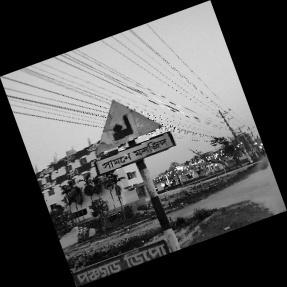Mosque in front: (93, 98, 178, 180)
